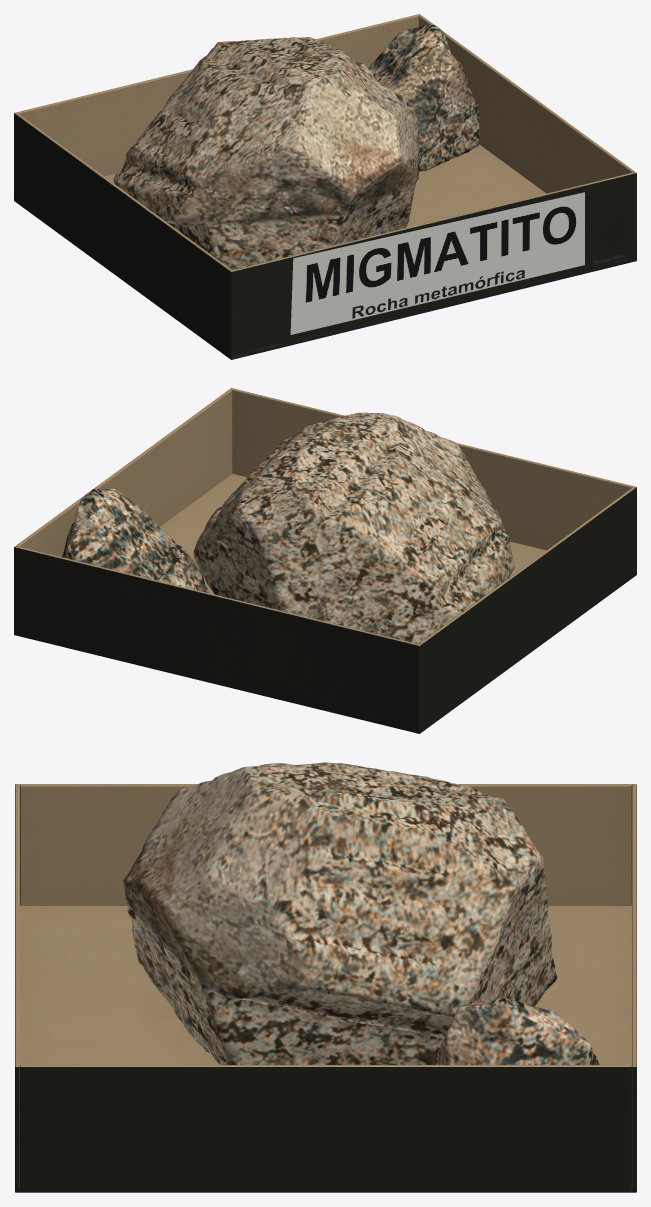
The model's file is rocha_02_14_migmatito.glb.
The picture shows the model from 3 angles, top to bottom: view 1: azimuth 30°, elevation 25°; view 2: azimuth 150°, elevation 25°; view 3: azimuth 270°, elevation 25°; orthographic projection. The views are drawn at different scales.
Visible parts, largest first — view 1: Fragmento_01_mo14, Etiqueta_mo14, Bandeja_Esquerda_mo14, Bandeja_Frente_mo14, Bandeja_Direita_mo14, Bandeja_Fundo_mo14, Fragmento_02_mo14, Bandeja_Base_mo14; view 2: Fragmento_01_mo14, Bandeja_Fundo_mo14, Bandeja_Esquerda_mo14, Bandeja_Frente_mo14, Bandeja_Direita_mo14, Fragmento_02_mo14, Bandeja_Base_mo14; view 3: Fragmento_01_mo14, Bandeja_Direita_mo14, Bandeja_Base_mo14, Bandeja_Esquerda_mo14, Fragmento_02_mo14, Bandeja_Frente_mo14, Bandeja_Fundo_mo14.
Boxes of the visible parts, x1,y1,x2,y2 form: Fragmento_01_mo14: [113, 37, 420, 270]; Etiqueta_mo14: [290, 192, 584, 334]; Bandeja_Esquerda_mo14: [15, 113, 231, 357]; Bandeja_Frente_mo14: [229, 172, 636, 359]; Bandeja_Direita_mo14: [418, 15, 634, 193]; Bandeja_Fundo_mo14: [14, 14, 420, 198]; Fragmento_02_mo14: [368, 25, 480, 171]; Bandeja_Base_mo14: [14, 144, 636, 359]; Fragmento_01_mo14: [193, 412, 515, 644]; Bandeja_Fundo_mo14: [14, 546, 421, 733]; Bandeja_Esquerda_mo14: [419, 487, 635, 731]; Bandeja_Frente_mo14: [230, 388, 636, 575]; Bandeja_Direita_mo14: [16, 389, 232, 556]; Fragmento_02_mo14: [62, 488, 208, 592]; Bandeja_Base_mo14: [14, 474, 636, 733]; Fragmento_01_mo14: [123, 762, 557, 1064]; Bandeja_Direita_mo14: [20, 1065, 631, 1192]; Bandeja_Base_mo14: [15, 905, 636, 1192]; Bandeja_Esquerda_mo14: [20, 784, 631, 905]; Fragmento_02_mo14: [433, 998, 599, 1064]; Bandeja_Frente_mo14: [15, 784, 19, 1192]; Bandeja_Fundo_mo14: [632, 784, 636, 1192].
Size of the model in its own units: 0.1981 by 0.0836 by 0.1841.
Materials: 3 (3 with a texture image).
